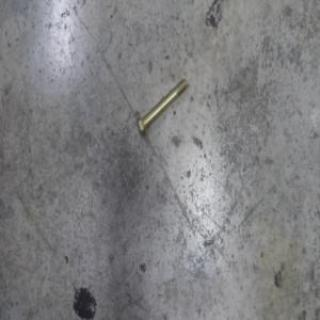Bolttrack_idkeyframe: (135, 76, 188, 136)
